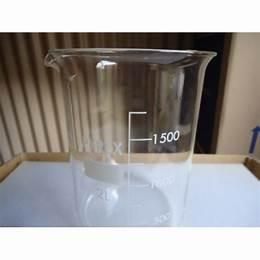Beaker: (35, 39, 220, 219)
